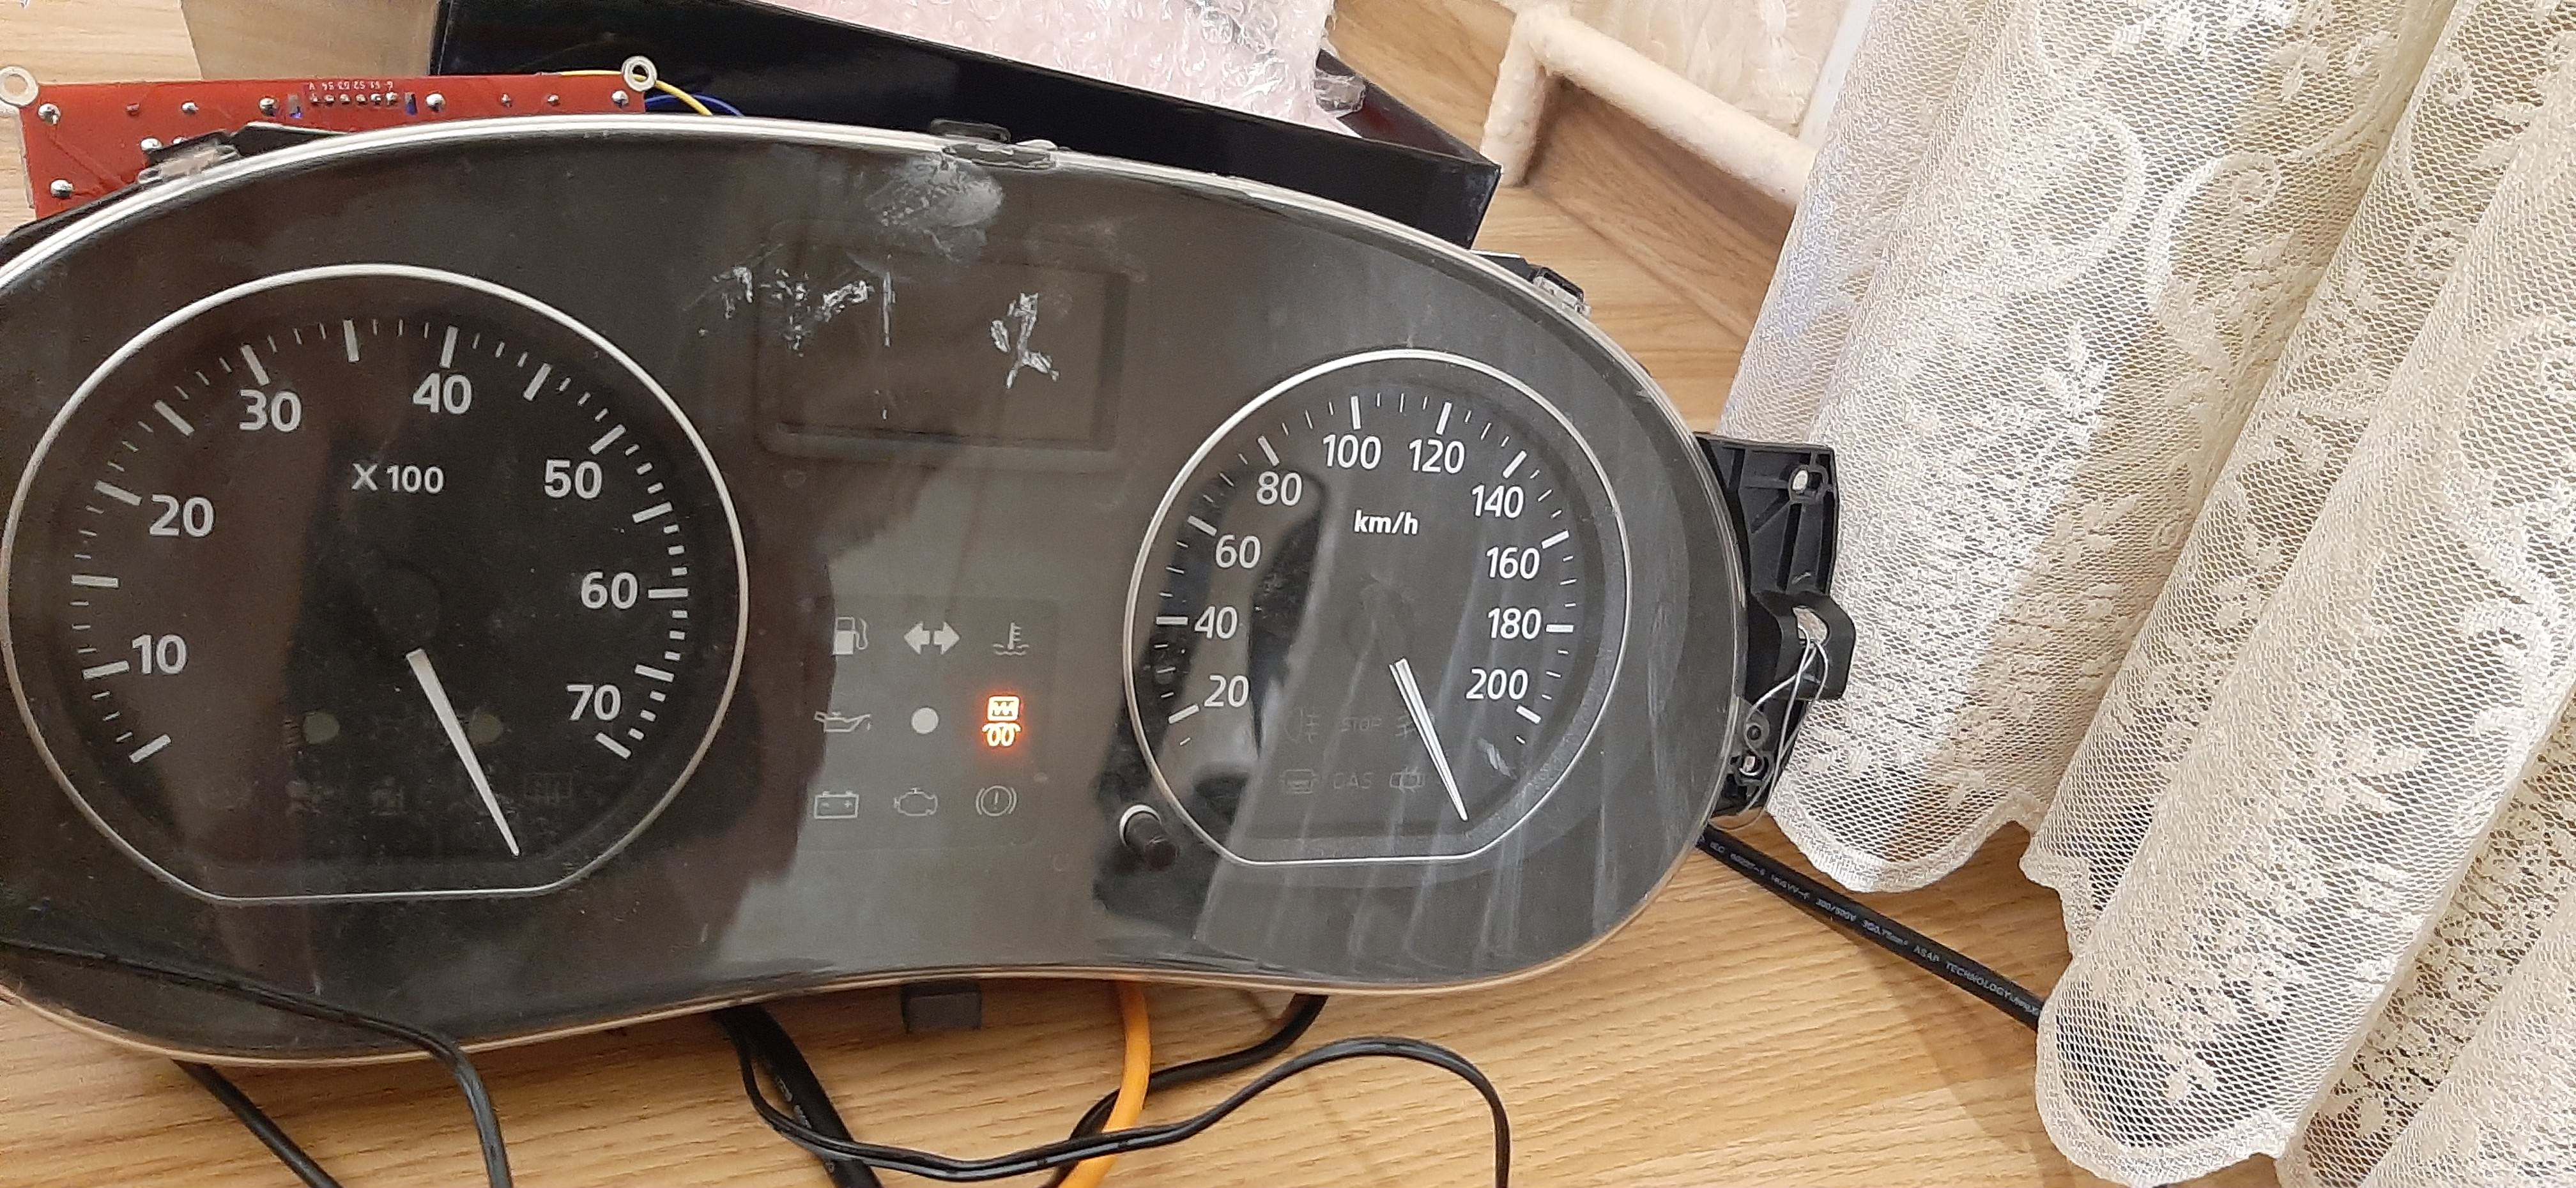diesel12: (981, 695, 1024, 749)
